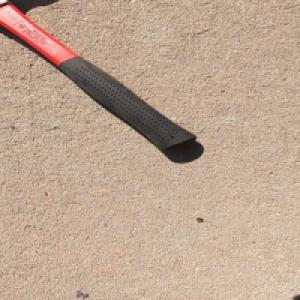Hammer: (0, 0, 203, 153)
